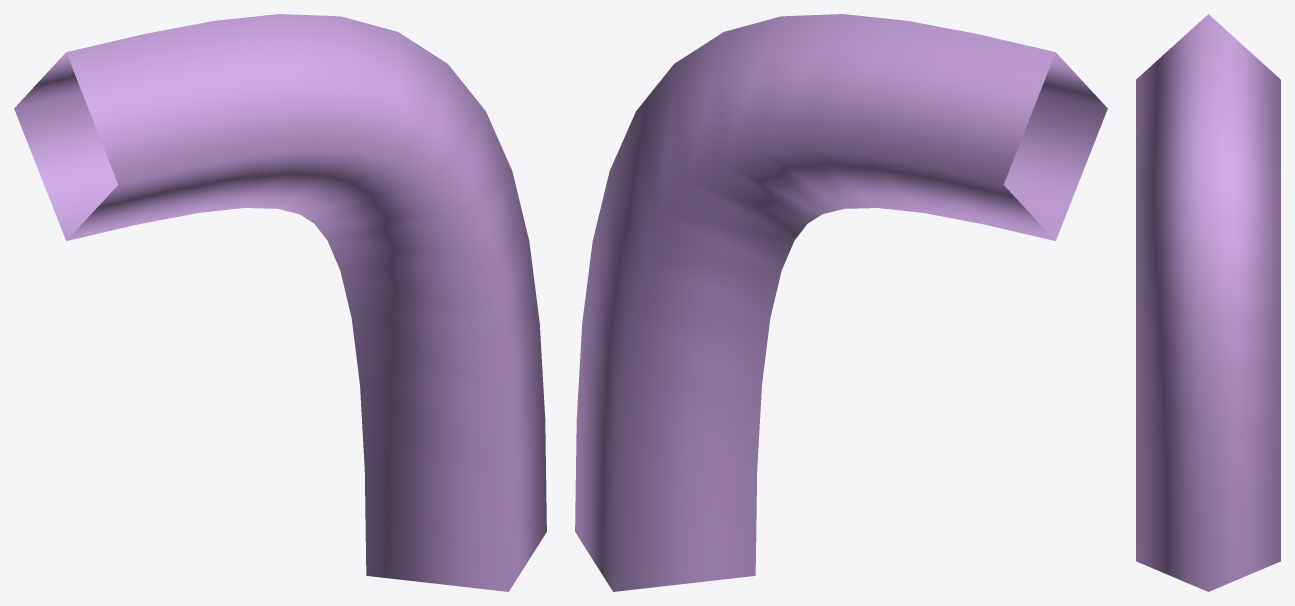
File: G_Background_Pipe_B.fbx
The picture shows the model from 3 angles, left to right: view 1: azimuth 30°, elevation 25°; view 2: azimuth 150°, elevation 25°; view 3: azimuth 270°, elevation 25°; orthographic projection. The views are drawn at different scales.
Visible parts, largest first — view 1: G_Background_Pipe_B; view 2: G_Background_Pipe_B; view 3: G_Background_Pipe_B.
Boxes of the visible parts, x1=… form: G_Background_Pipe_B: x1=14, y1=14, x2=546, y2=591; G_Background_Pipe_B: x1=575, y1=14, x2=1107, y2=591; G_Background_Pipe_B: x1=1136, y1=14, x2=1280, y2=591.
Bounding box in the file's own units: 106 × 126 × 40.
